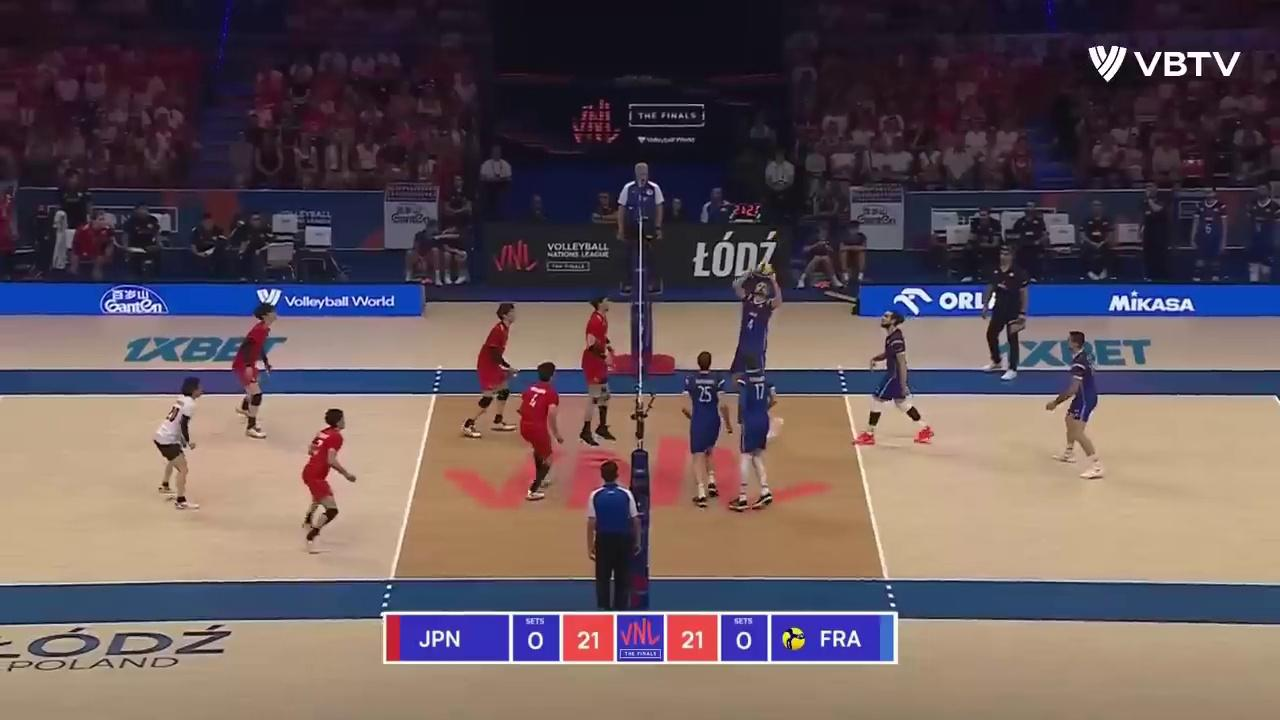ball: (758, 260, 776, 278)
